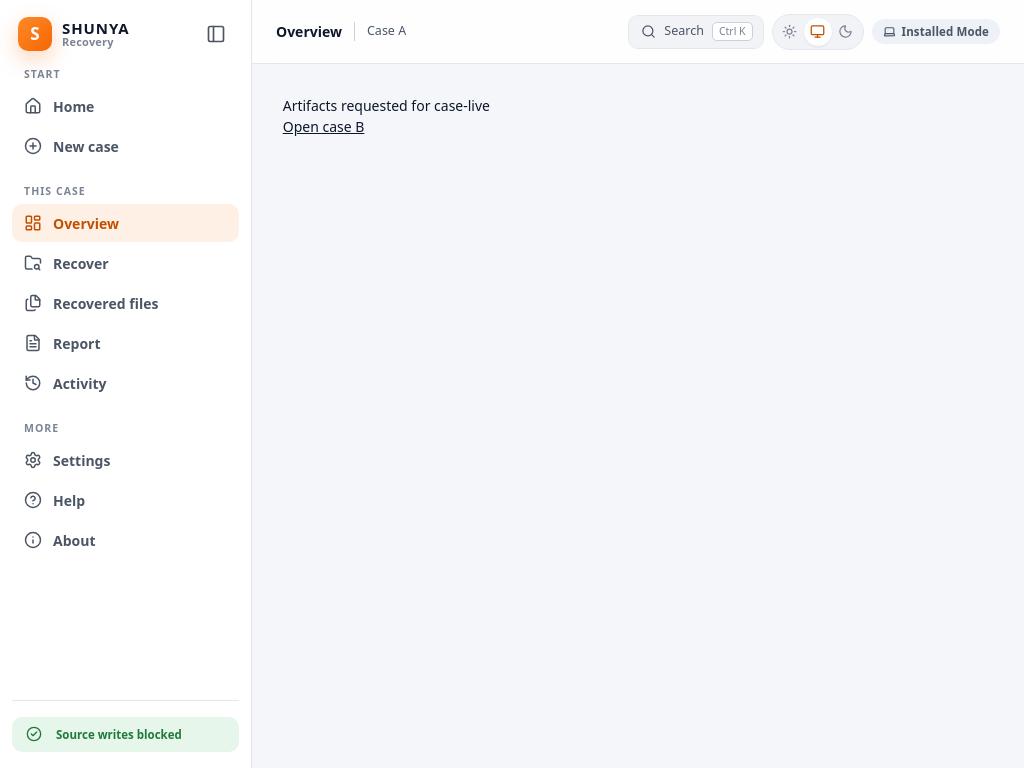
Test: live renderer pages › unmounts the first case before opening a second case and rejects mismatched context
Click the link "Open case B": (324, 126) [283,117,364,136]
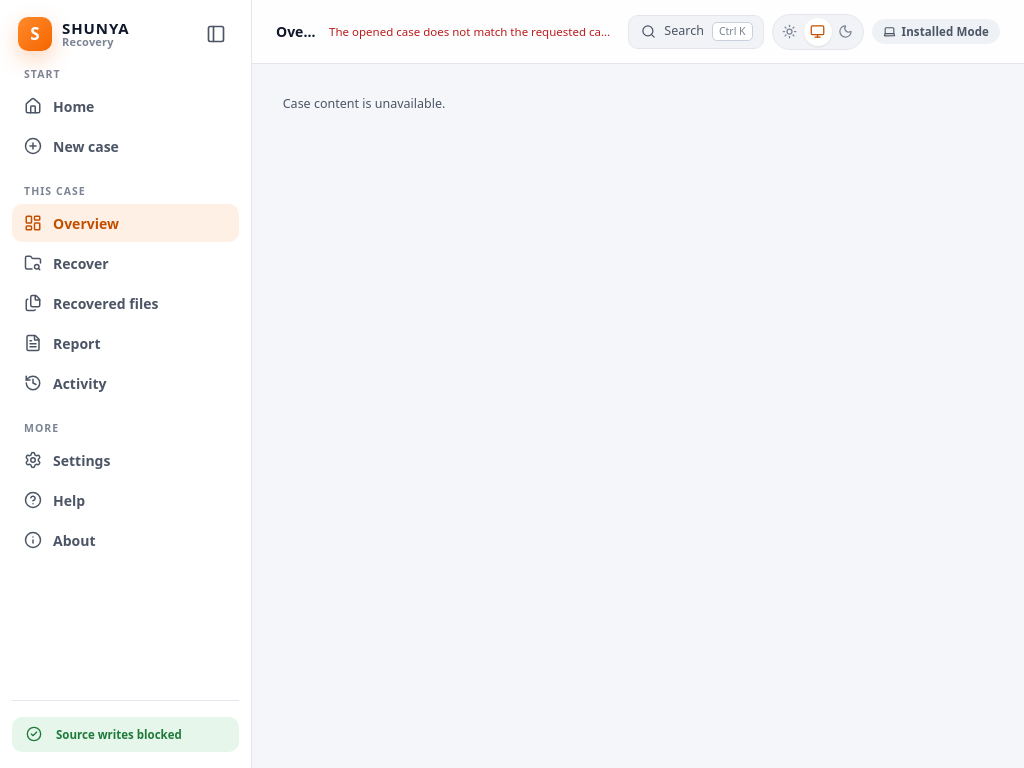
Check: the 1st message is shown, box [329,23,612,40]
